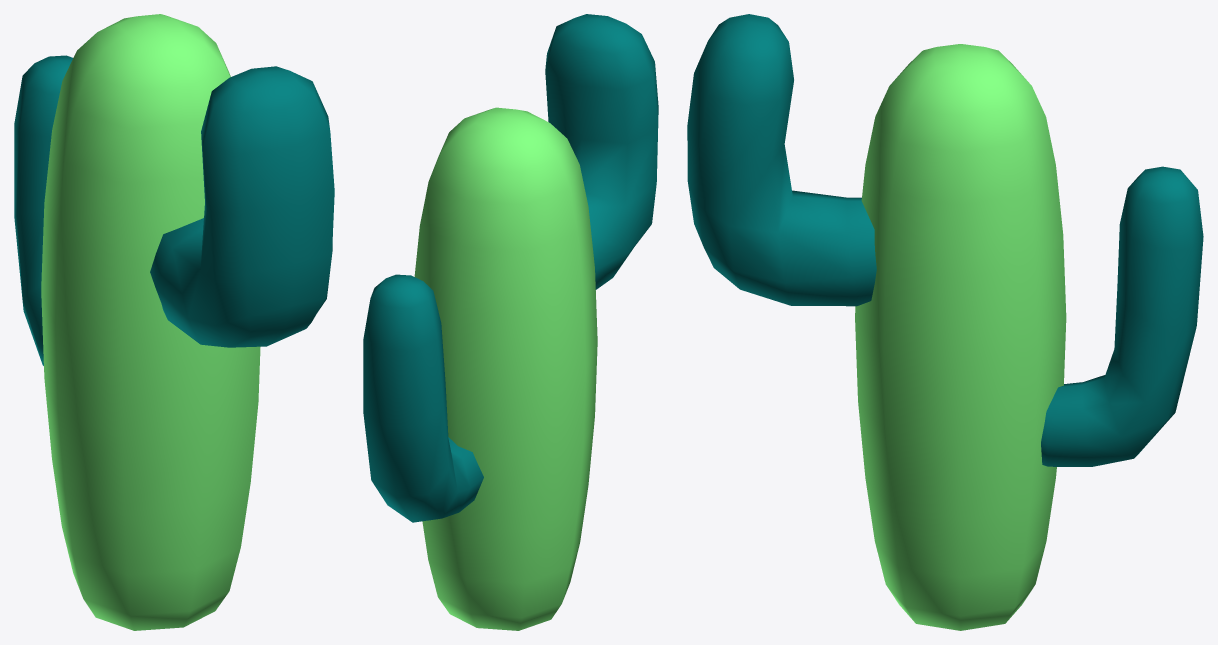
File: Cactus03.fbx
The picture shows the model from 3 angles, left to right: view 1: azimuth 30°, elevation 25°; view 2: azimuth 150°, elevation 25°; view 3: azimuth 270°, elevation 25°; orthographic projection. The views are drawn at different scales.
Parts seen in each view (by area): view 1: Low_Cactus03; view 2: Low_Cactus03; view 3: Low_Cactus03.
Boxes of the visible parts, <box> form: Low_Cactus03: <box>14,14,334,630</box>; Low_Cactus03: <box>363,14,658,630</box>; Low_Cactus03: <box>687,14,1203,630</box>.
Size of the model in its own units: 255 by 788 by 624.
